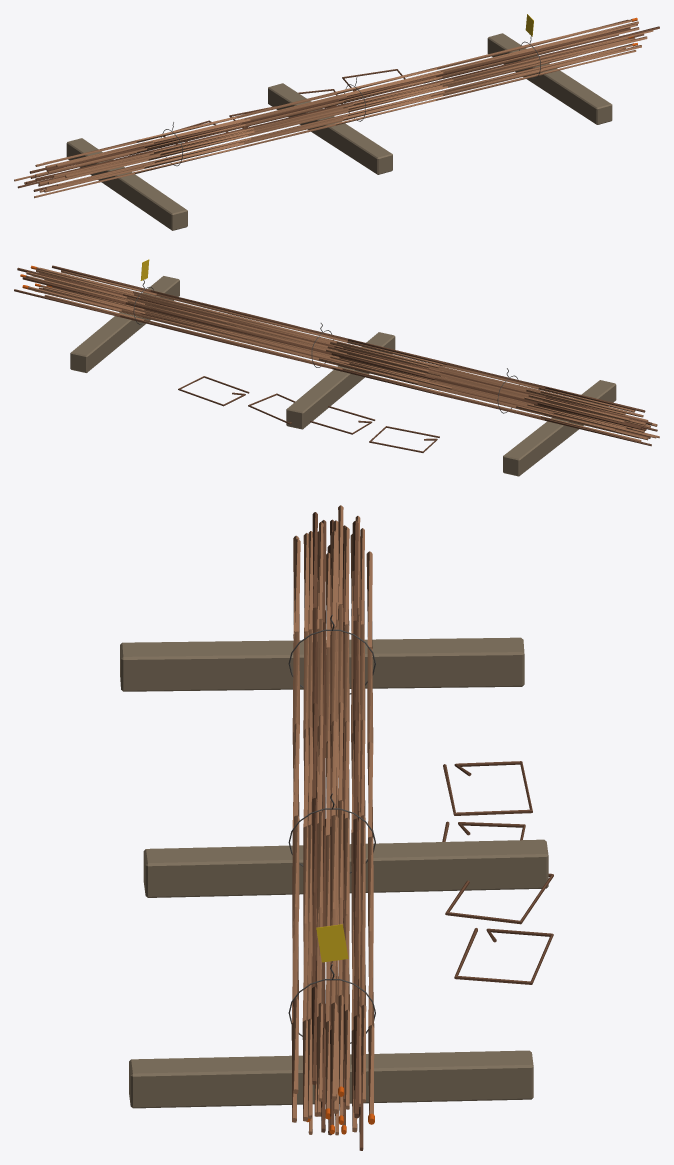
Rendered from rebar_bundle.glb.
3 renders of one model, top to bottom at view 1: azimuth 30°, elevation 25°; view 2: azimuth 150°, elevation 25°; view 3: azimuth 270°, elevation 25°, orthographic. The views are drawn at different scales.
Parts seen in each view (by area): view 1: teil3, teil0, teil1; view 2: teil3, teil1, teil0; view 3: teil0, teil3, teil1, teil5, teil4.
Boxes of the visible parts, <box> form: teil3: <box>14,19,653,198</box>; teil0: <box>66,33,612,230</box>; teil1: <box>17,24,659,191</box>; teil3: <box>26,267,659,441</box>; teil1: <box>14,265,657,452</box>; teil0: <box>70,276,616,476</box>; teil0: <box>120,637,548,1108</box>; teil3: <box>291,505,374,1135</box>; teil1: <box>312,512,553,1150</box>; teil5: <box>316,924,348,962</box>; teil4: <box>288,614,375,1043</box>.
Bounding box in the file's own units: 3.82 × 0.4397 × 1.13.
